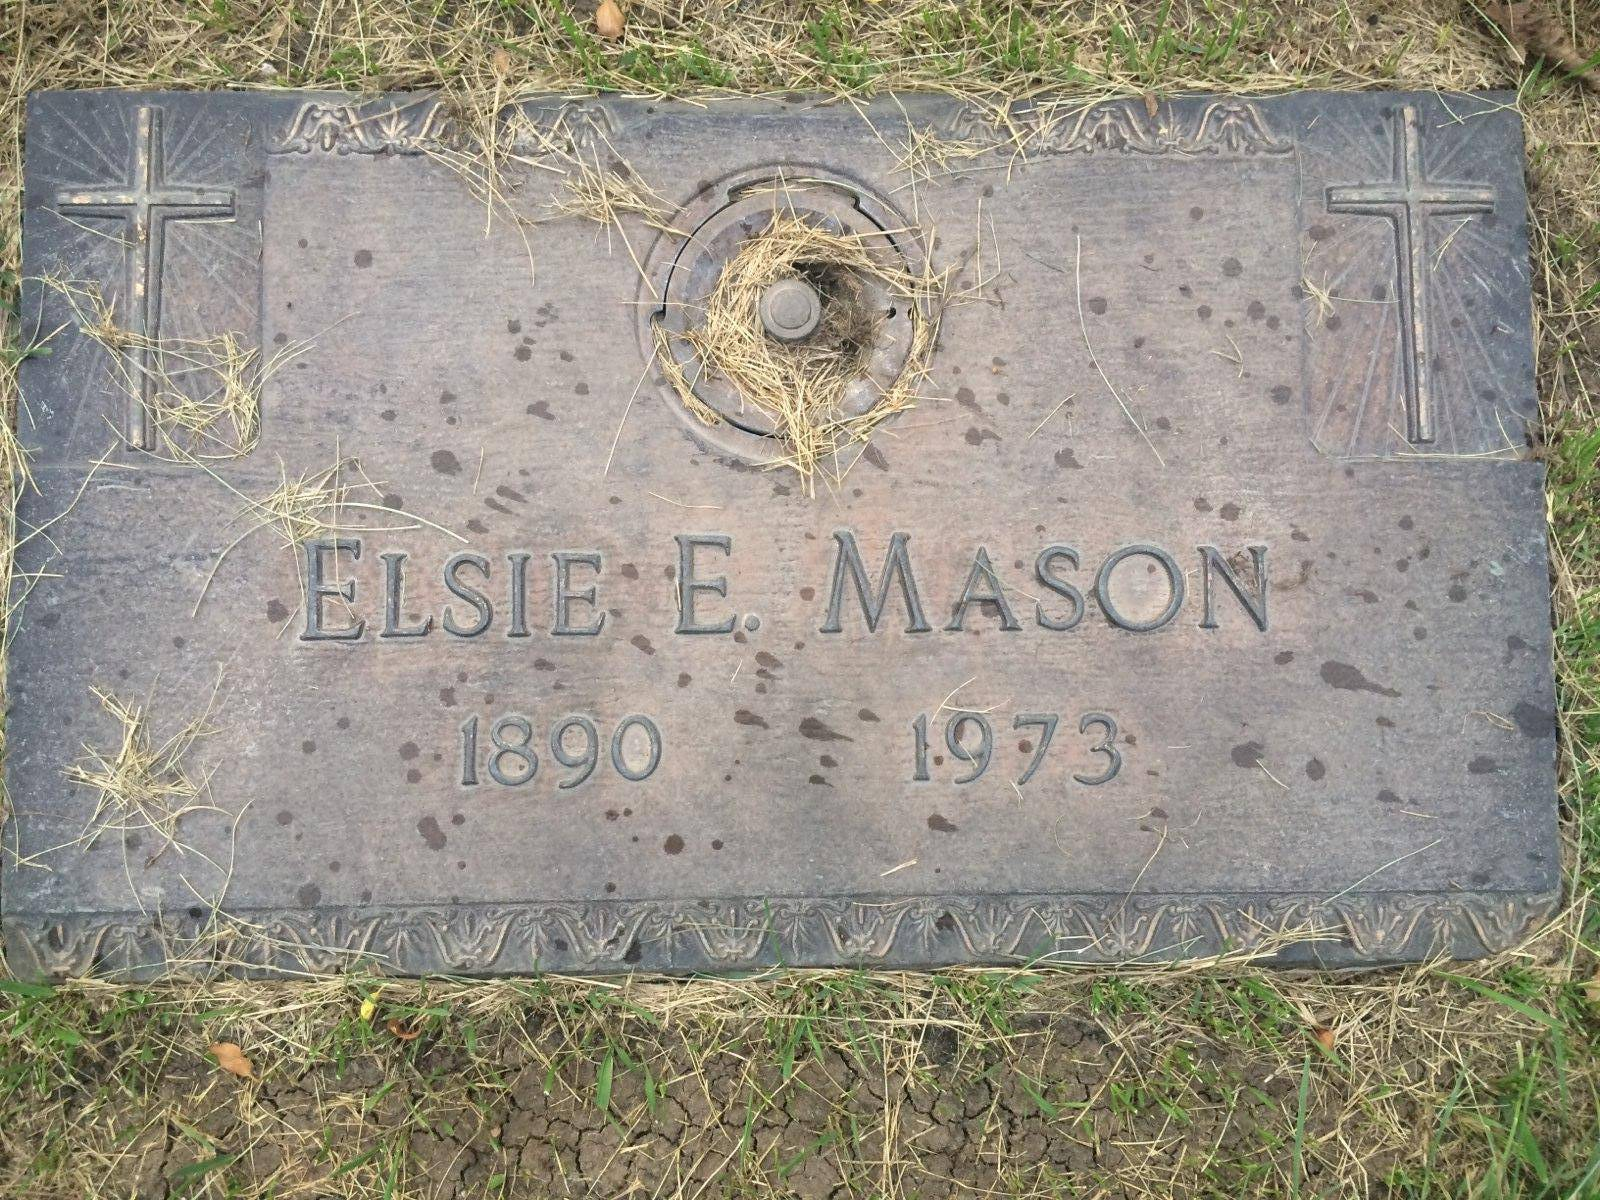flat: (4, 42, 1545, 998)
